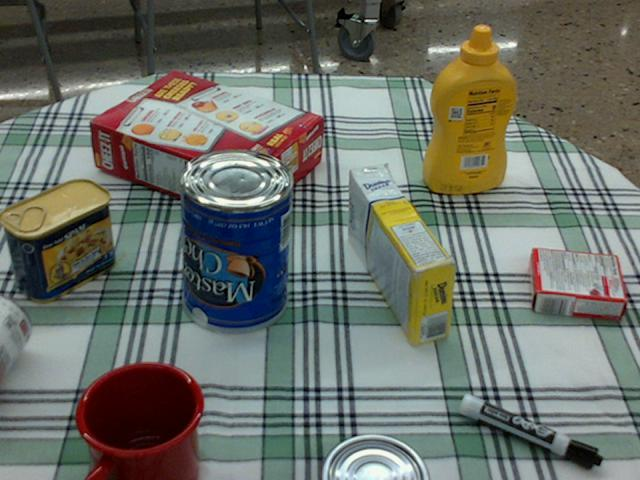cracker_box: (90, 71, 320, 220)
gelatin_box: (527, 248, 625, 321)
large_marker: (459, 393, 601, 468)
master_chef_can: (176, 148, 291, 332)
mug: (70, 359, 198, 479)
mustard_bottle: (421, 25, 515, 192)
potted_meat_can: (0, 179, 114, 301)
sugar_box: (346, 166, 454, 344)
tomato_soup_can: (0, 293, 30, 380)
tuna_fish_can: (318, 436, 427, 479)
